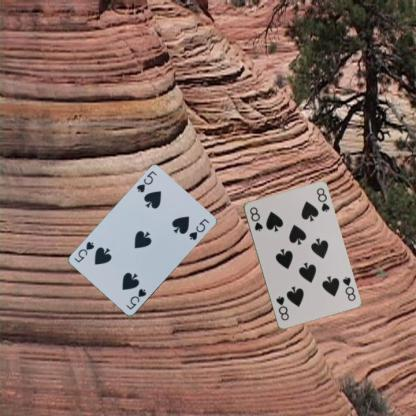5s: (134, 168, 158, 194), (124, 286, 147, 311)
8s: (247, 204, 264, 232), (340, 274, 356, 302)
